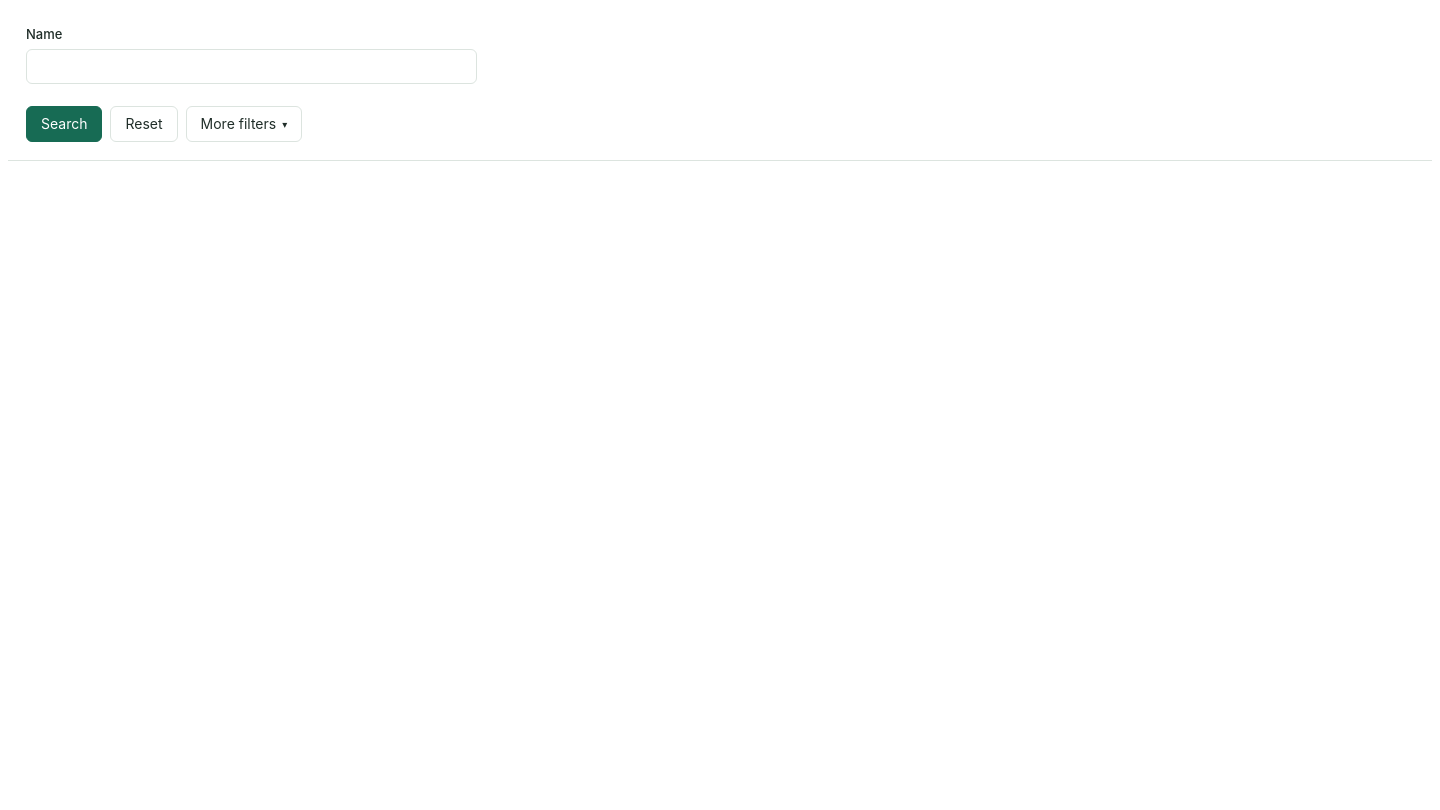
Test: popover instant edits validate the outgoing changed values
Click the button with test id "rac-more-filters".
click(244, 124)  # box 186,106 -> 302,142
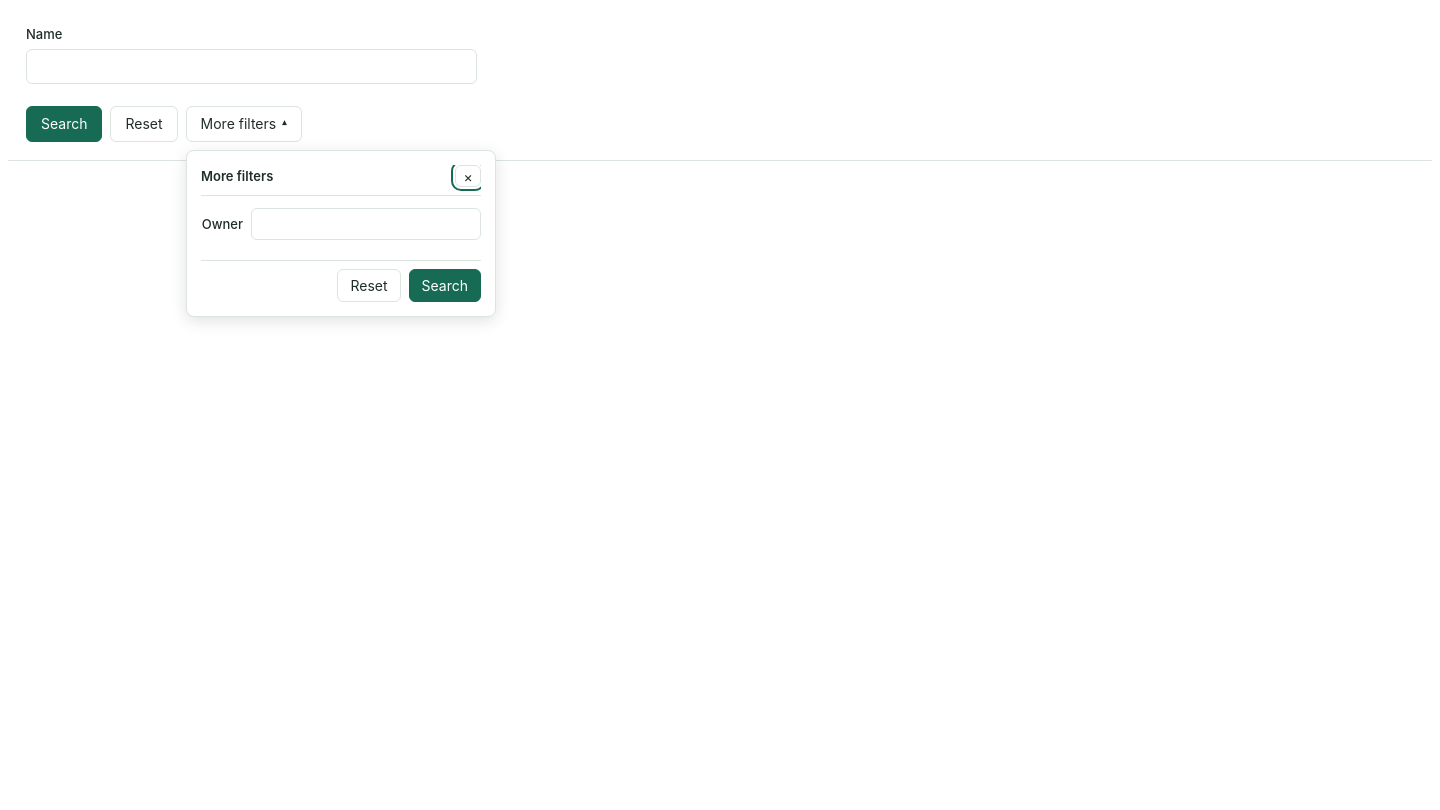
Type "bad" into the field labelled "Owner".
click(366, 224); type("bad")  # box 251,208 -> 481,240
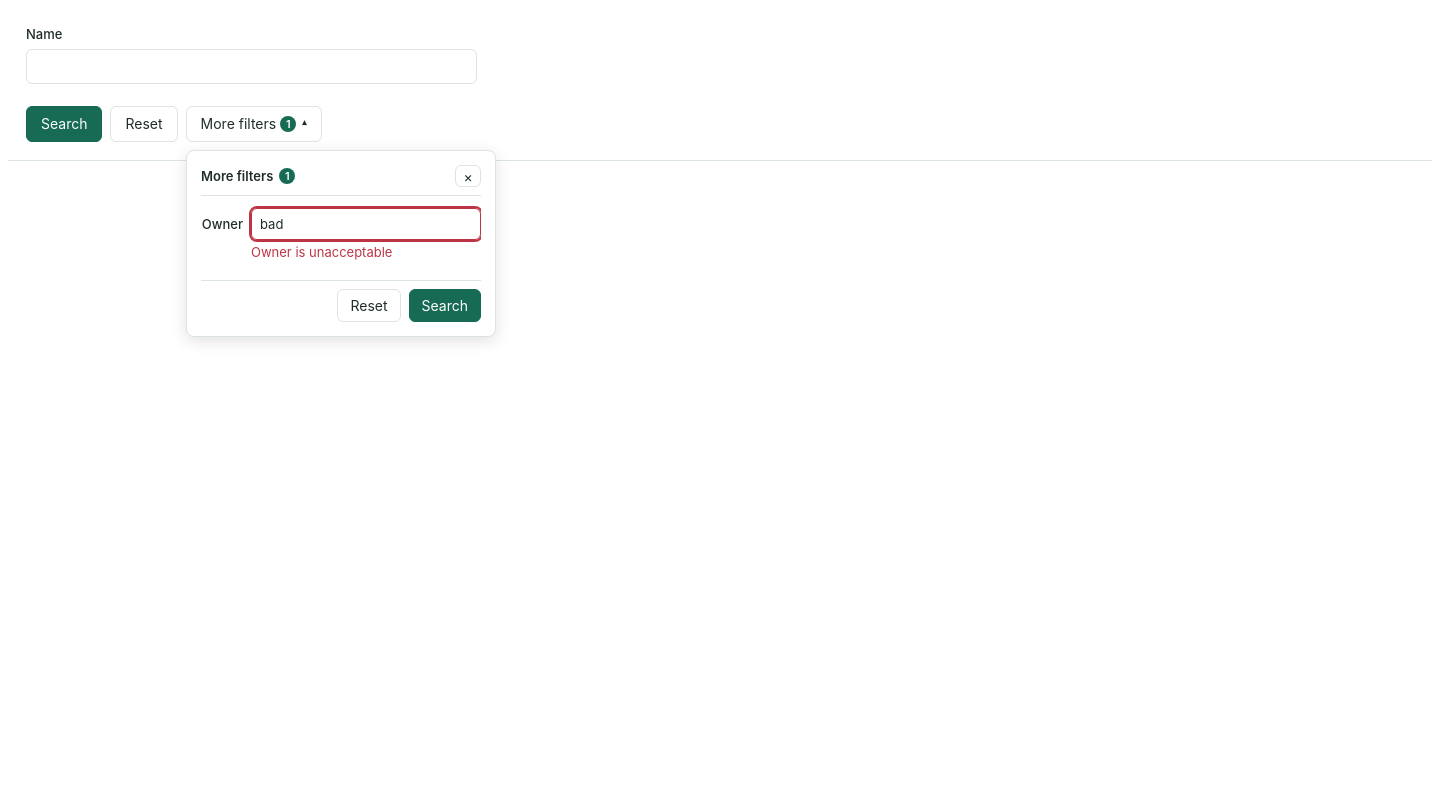
Result: the message reads "Owner is unacceptable" at 251,244 -> 392,260
